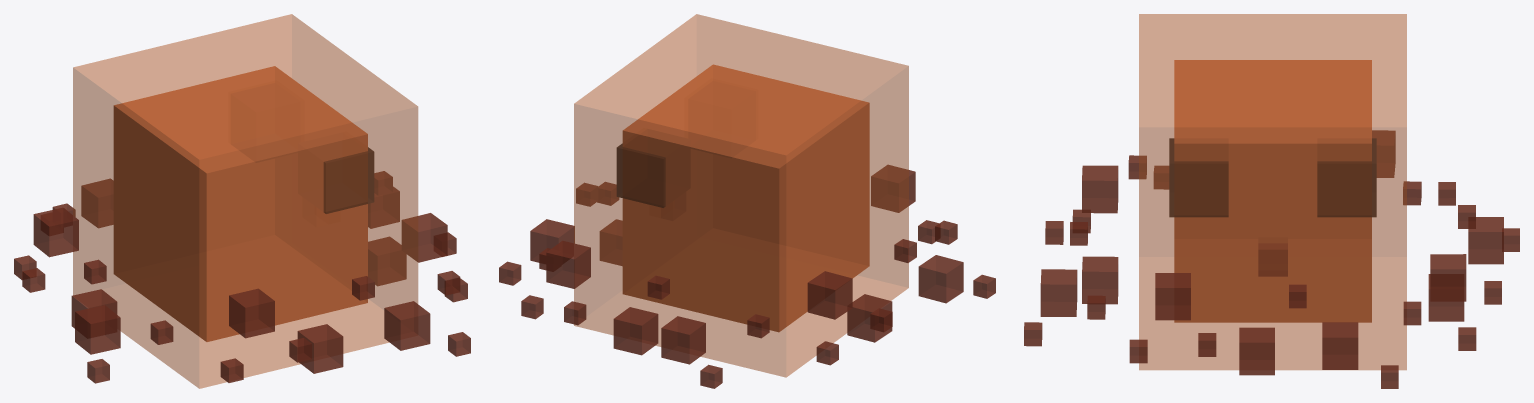
The model's file is earth.fbx.
The picture shows the model from 3 angles, left to right: view 1: azimuth 30°, elevation 25°; view 2: azimuth 150°, elevation 25°; view 3: azimuth 270°, elevation 25°; orthographic projection. The views are drawn at different scales.
Parts seen in each view (by area): view 1: Body; view 2: Body; view 3: Body.
Part boxes in pixels (x1=…): Body: x1=14, y1=14, x2=470, y2=388; Body: x1=499, y1=14, x2=995, y2=388; Body: x1=1024, y1=14, x2=1519, y2=388.
Size of the model in its own units: 544 by 300 by 555.
